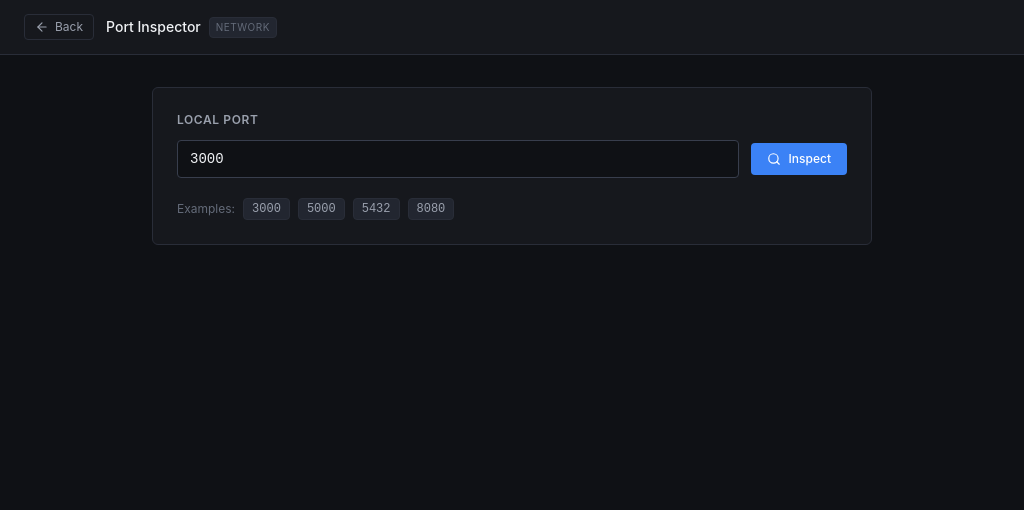
PortInspectorPage › inspects port and renders empty state when no sockets are listening
Replace the text in the number field labelled "Local Port" with "4321": (458,159) [177, 140, 739, 178]
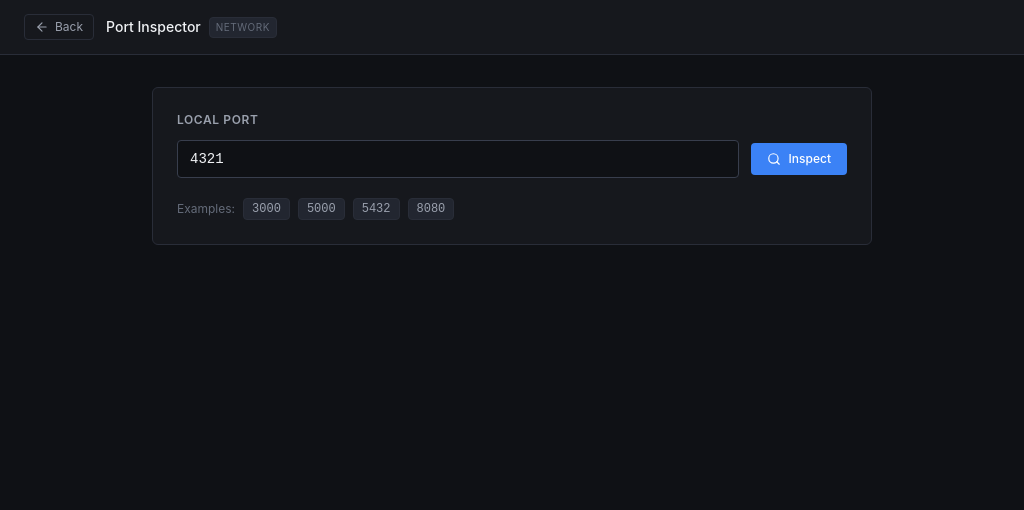
Click the button "Inspect": (799,159) [751, 143, 847, 175]
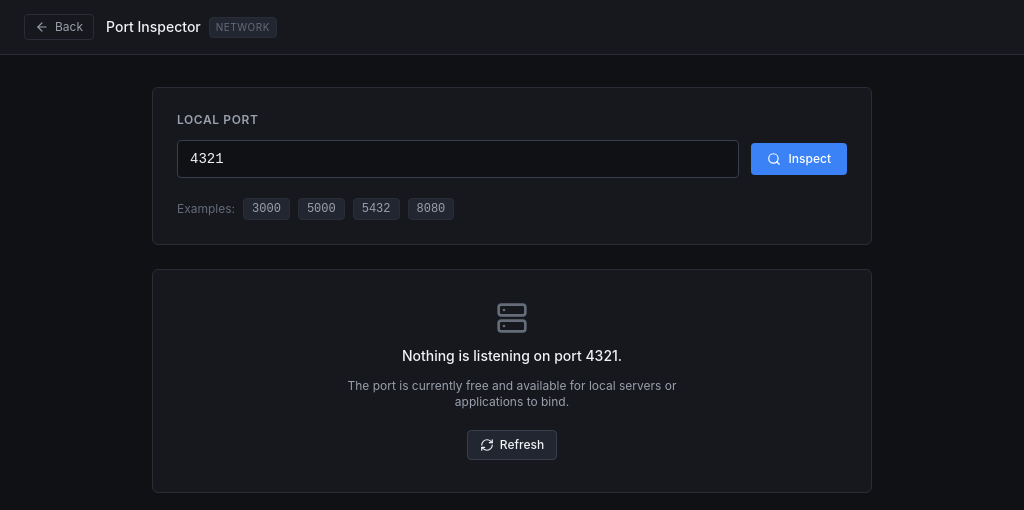
expect the heading "Nothing is listening on port 4321." is shown: met, box [402, 346, 622, 366]
